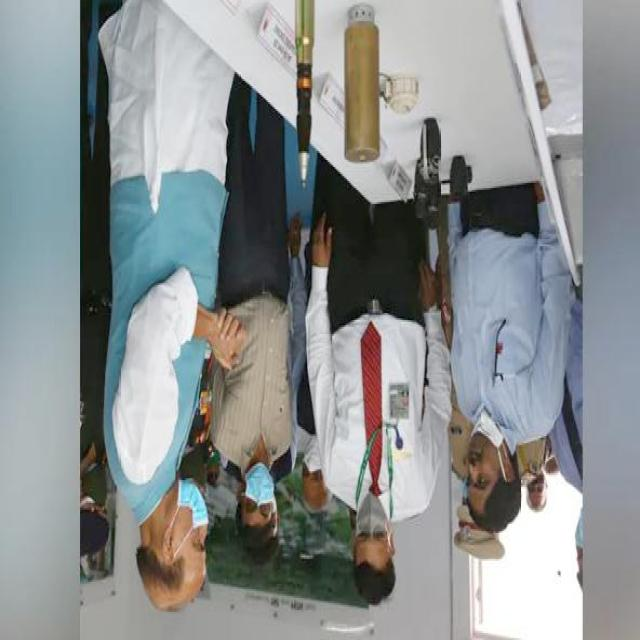grenade: (418, 117, 443, 187)
